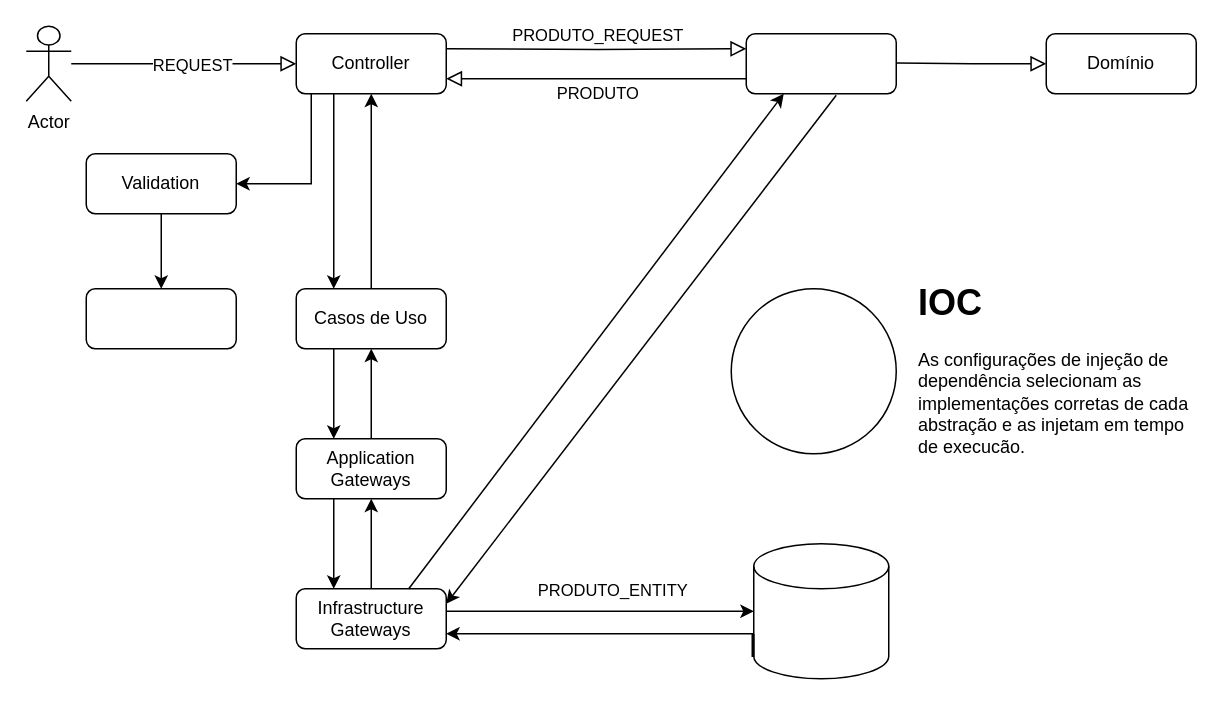
Some shapes in this 1223 by 707 pixel diagram are drawn without their labels. The centre of each missing label's shape, as x and y in pixels:
"Configuração de IoC" goes at pixel 813 370.
"Exceptions" goes at pixel 160 318.
"Mapper" goes at pixel 820 63.
"Persistence" goes at pixel 820 610.
